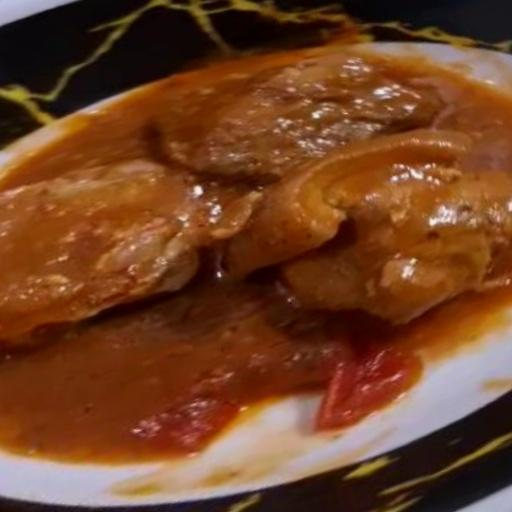pork caldereta: (0, 43, 511, 458)
